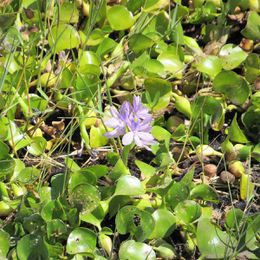water_hyacinth: (0, 155, 260, 260)
